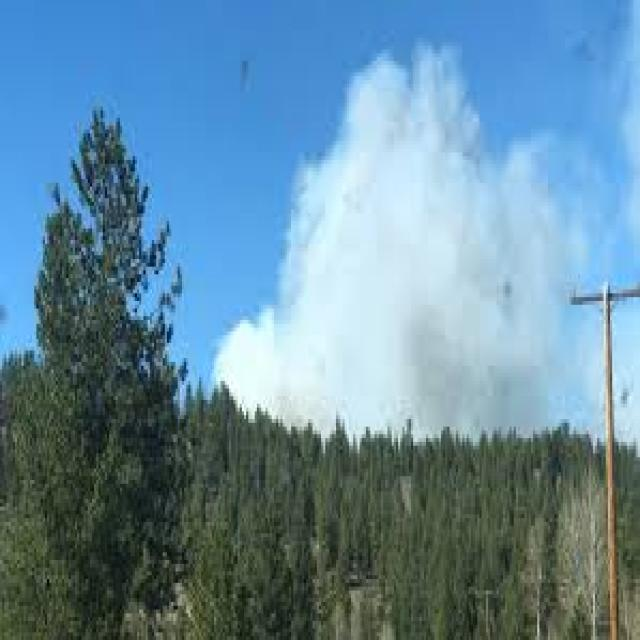Smoke: (198, 19, 640, 429)
